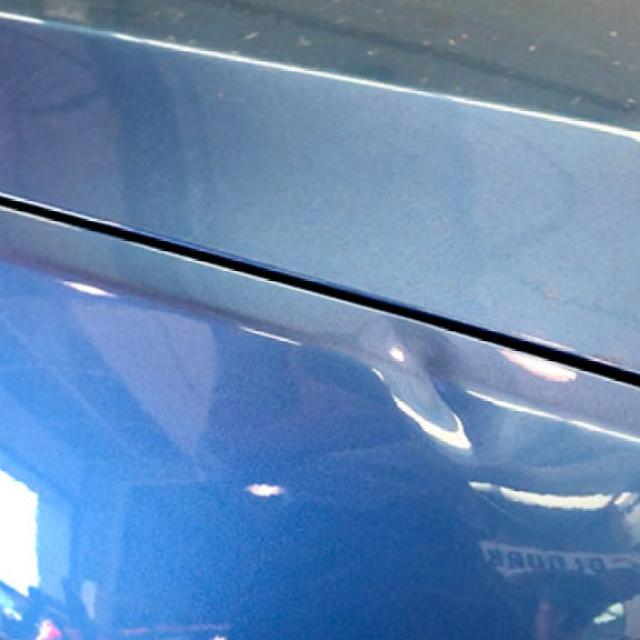dents: (342, 292, 490, 478)
